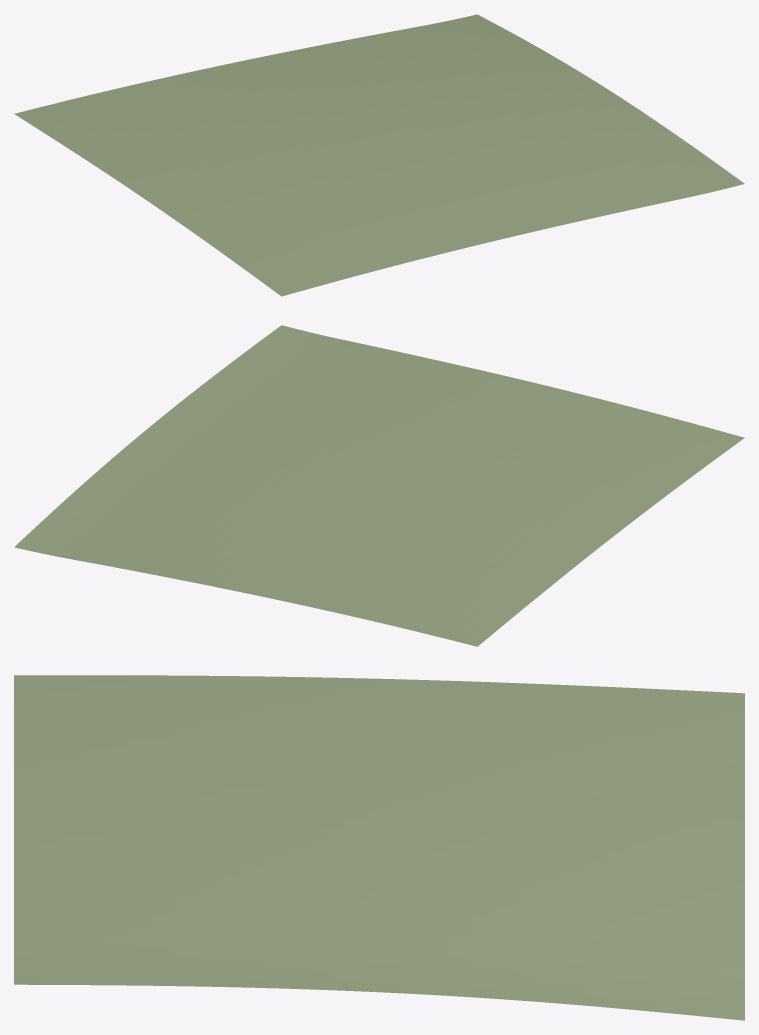
File: desert-21-6.glb
3 views of the same model, one above another, from view 1: azimuth 30°, elevation 25°; view 2: azimuth 150°, elevation 25°; view 3: azimuth 270°, elevation 25° (orthographic). The views are drawn at different scales.
Visible parts, largest first — view 1: desert-21-6; view 2: desert-21-6; view 3: desert-21-6.
Part boxes in pixels (x1=…): desert-21-6: x1=14, y1=14, x2=744, y2=296; desert-21-6: x1=14, y1=325, x2=744, y2=646; desert-21-6: x1=14, y1=675, x2=744, y2=1020.
Bounding box in the file's own units: 512 × 32.12 × 512.
